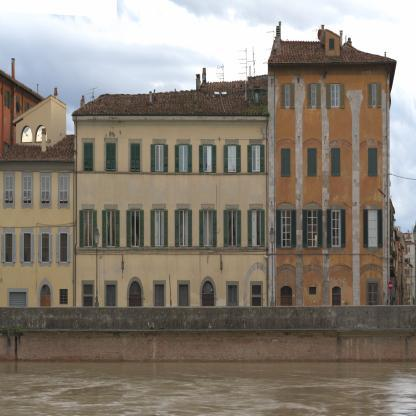Building Outline: (0, 21, 397, 330)
Door: (10, 292, 27, 329), (368, 283, 378, 329), (202, 294, 214, 329), (129, 295, 141, 329), (280, 296, 292, 329), (41, 296, 51, 329), (332, 295, 341, 329), (84, 297, 93, 329), (252, 297, 261, 329)
Facade: (0, 21, 397, 330)
Floor: (74, 192, 390, 264), (74, 120, 390, 192), (0, 218, 74, 275), (0, 165, 74, 218)
Floor Slab: (74, 186, 390, 192), (74, 120, 390, 125), (74, 258, 390, 263), (0, 161, 74, 165), (0, 214, 74, 218), (0, 271, 74, 275)
Ground Floor: (74, 264, 390, 330), (0, 275, 74, 330)
Roof: (72, 75, 268, 116), (268, 40, 397, 66), (0, 134, 75, 161)
Top Floor: (248, 66, 390, 126), (0, 99, 74, 165)
Window: (130, 209, 140, 247), (83, 209, 93, 247), (203, 209, 213, 247), (281, 210, 291, 248), (307, 210, 317, 248), (106, 210, 116, 247), (155, 209, 164, 247), (252, 209, 261, 247), (228, 209, 237, 247), (368, 209, 377, 247), (332, 209, 341, 247), (179, 209, 188, 246), (281, 148, 291, 177), (307, 148, 317, 177), (227, 145, 237, 173), (131, 143, 140, 172), (84, 142, 93, 171), (368, 148, 377, 177), (331, 148, 340, 177), (41, 176, 50, 204), (23, 176, 32, 204), (155, 144, 164, 172), (106, 143, 115, 171), (179, 144, 188, 172), (203, 144, 212, 172), (252, 145, 261, 173), (60, 233, 68, 264), (42, 233, 50, 264), (23, 233, 31, 264), (5, 233, 13, 264), (281, 83, 290, 109), (331, 83, 340, 109), (307, 83, 316, 109), (34, 125, 47, 143), (368, 83, 377, 108), (60, 176, 68, 204), (5, 176, 13, 204), (228, 285, 237, 309), (155, 284, 164, 308), (179, 284, 188, 308), (107, 285, 116, 308), (20, 126, 32, 143), (202, 280, 214, 294), (129, 281, 141, 295), (40, 284, 51, 296), (60, 289, 68, 304), (281, 286, 292, 296), (252, 285, 261, 295), (84, 285, 93, 294), (332, 286, 341, 294), (254, 91, 259, 104), (309, 287, 316, 295)
